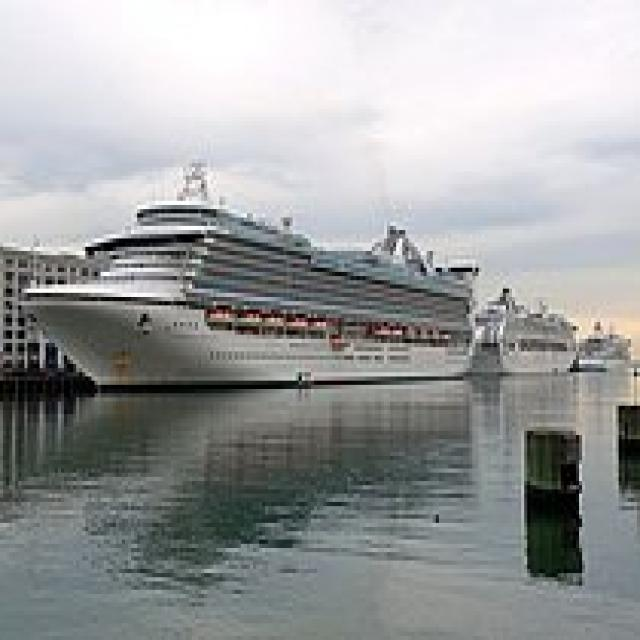Cruise: (12, 151, 476, 389), (466, 276, 576, 377), (570, 314, 631, 364)
